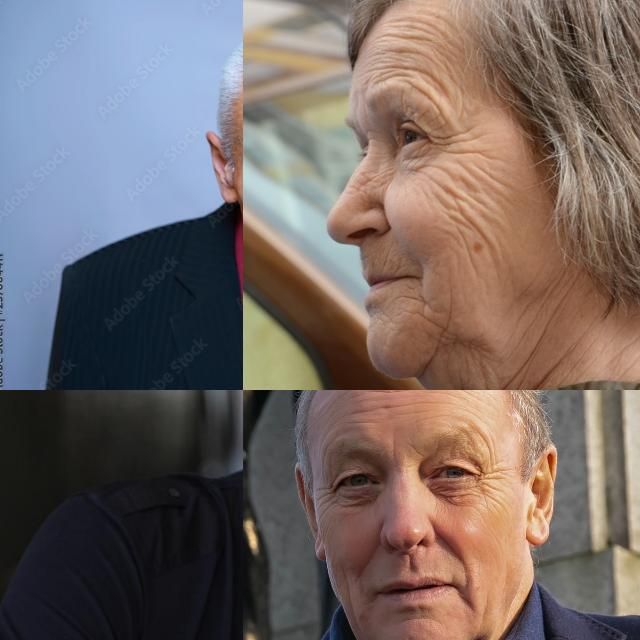bunny_line: (358, 166, 388, 190)
chin: (402, 286, 432, 318), (419, 339, 443, 371)
crows_feet: (475, 462, 505, 496), (429, 129, 459, 161), (310, 482, 340, 510)
forehead: (392, 45, 432, 83), (476, 424, 500, 466), (391, 14, 431, 38), (317, 428, 337, 464), (364, 60, 390, 86), (347, 405, 375, 427), (371, 390, 415, 404), (422, 90, 446, 114), (442, 390, 486, 403), (370, 22, 388, 52)
frown_line: (386, 438, 404, 464)
gummy_smile: (432, 526, 466, 562), (356, 533, 384, 575)
masseter: (527, 288, 559, 328), (464, 160, 496, 190), (444, 186, 468, 222), (472, 220, 496, 252), (341, 573, 359, 615), (438, 294, 456, 328)
sad_smile: (454, 589, 480, 613)
smoker_lines: (374, 246, 398, 272)
